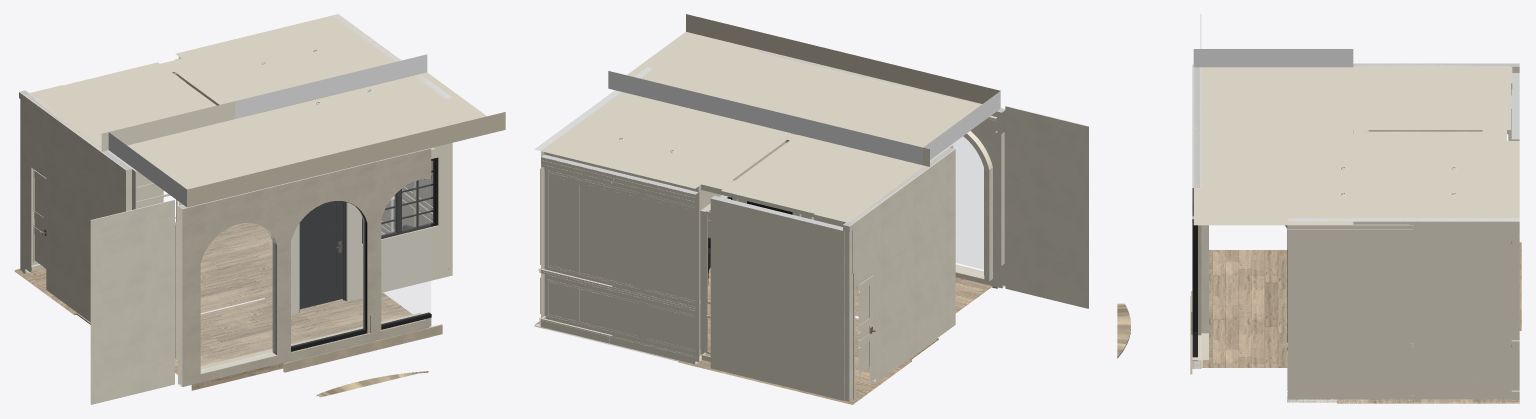
Rendered from office-east-9d729b59bf2a.glb.
3 views of the same model, side by side, from view 1: azimuth 30°, elevation 25°; view 2: azimuth 150°, elevation 25°; view 3: azimuth 270°, elevation 25° (orthographic). The views are drawn at different scales.
Visible parts, largest first — view 1: office-east-look-dbd60ee5c3733ed6, office-east-look-c9e78b9ec1bb39cd, office-east-look-d5a4a1b5d3594c04, office-east-look-6a051330000fbca1, office-east-look-2575515a05775d9e, office-east-2575515a05775d9e, office-east-look-38561c12898e4d43, office-east-look-c02a36d0521470a9, office-east-look-c374268555806af8, office-east-7dc307bfa7ee071d, office-east-look-5cbcc744e6f960f3, office-east-dbd60ee5c3733ed6 (+17 smaller); view 2: office-east-look-dbd60ee5c3733ed6, office-east-look-19647d6da46c2b80, office-east-19647d6da46c2b80, office-east-look-6a051330000fbca1, office-east-look-d5a4a1b5d3594c04, office-east-2575515a05775d9e, office-east-look-2575515a05775d9e, office-east-look-38561c12898e4d43, office-east-7b11e78295c2e11d, office-east-look-c9e78b9ec1bb39cd, office-east-look-0d8abb8bf9b53894, office-east-dbd60ee5c3733ed6 (+17 smaller); view 3: office-east-6a1144f4e43410bb, office-east-look-dbd60ee5c3733ed6, office-east-2575515a05775d9e, office-east-look-2575515a05775d9e, office-east-look-c374268555806af8, office-east-dbd60ee5c3733ed6, office-east-7dc307bfa7ee071d, office-east-look-c9e78b9ec1bb39cd, office-east-look-0d8abb8bf9b53894, office-east-19647d6da46c2b80, office-east-07b6babc03834d5e, office-east-0e637d2be41161fb (+17 smaller).
Boxes of the visible parts, x1,y1,x2,y2 form: office-east-look-dbd60ee5c3733ed6: (108,54,505,207); office-east-look-c9e78b9ec1bb39cd: (178,148,431,386); office-east-look-d5a4a1b5d3594c04: (90,199,174,404); office-east-look-6a051330000fbca1: (19,90,136,321); office-east-look-2575515a05775d9e: (24,62,235,151); office-east-2575515a05775d9e: (175,14,420,113); office-east-look-38561c12898e4d43: (201,223,275,369); office-east-look-c02a36d0521470a9: (291,201,364,346); office-east-look-c374268555806af8: (175,292,429,390); office-east-7dc307bfa7ee071d: (293,97,445,313); office-east-look-5cbcc744e6f960f3: (381,179,430,324); office-east-dbd60ee5c3733ed6: (257,74,447,137); office-east-look-dbd60ee5c3733ed6: (608,14,1000,165); office-east-look-19647d6da46c2b80: (710,195,842,400); office-east-19647d6da46c2b80: (541,154,699,364); office-east-look-6a051330000fbca1: (843,144,955,401); office-east-look-d5a4a1b5d3594c04: (1005,106,1088,308); office-east-2575515a05775d9e: (541,92,771,188); office-east-look-2575515a05775d9e: (721,135,929,222); office-east-look-38561c12898e4d43: (952,137,983,269); office-east-7b11e78295c2e11d: (692,110,808,361); office-east-look-c9e78b9ec1bb39cd: (756,50,1005,288); office-east-look-0d8abb8bf9b53894: (701,129,951,226); office-east-dbd60ee5c3733ed6: (615,67,807,129); office-east-6a1144f4e43410bb: (1287,218,1519,402); office-east-look-dbd60ee5c3733ed6: (1193,49,1353,225); office-east-2575515a05775d9e: (1353,141,1519,221); office-east-look-2575515a05775d9e: (1353,63,1510,129); office-east-look-c374268555806af8: (1192,250,1287,367); office-east-dbd60ee5c3733ed6: (1287,141,1353,221); office-east-7dc307bfa7ee071d: (1287,144,1295,399); office-east-look-c9e78b9ec1bb39cd: (1192,64,1201,368); office-east-look-0d8abb8bf9b53894: (1353,67,1512,140); office-east-19647d6da46c2b80: (1511,224,1519,390); office-east-07b6babc03834d5e: (1295,394,1511,399); office-east-0e637d2be41161fb: (1414,221,1420,401).
Bounding box in the file's own units: 7.25 × 3.46 × 6.07.
25 materials, 6 textured.
